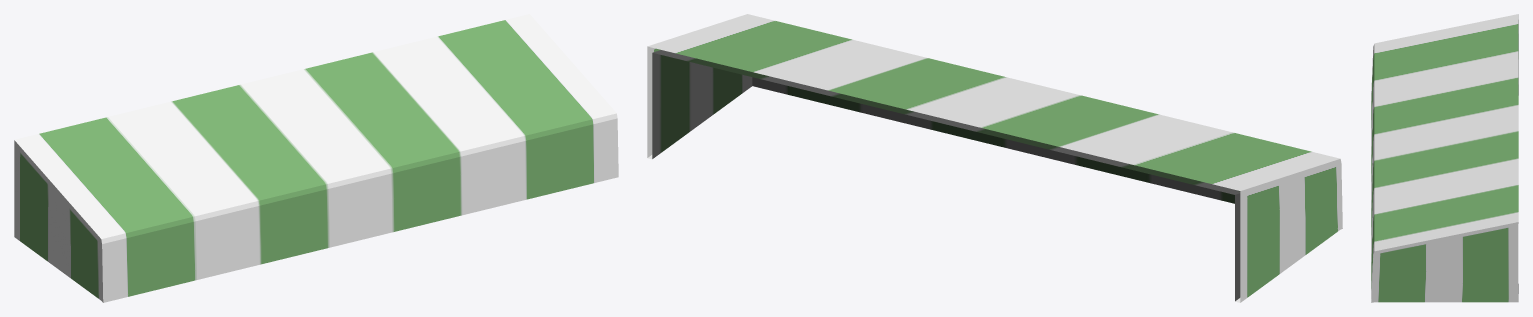
The model's file is ShopCanopy.fbx.
3 renders of one model, left to right at view 1: azimuth 30°, elevation 25°; view 2: azimuth 150°, elevation 25°; view 3: azimuth 270°, elevation 25°, orthographic. The views are drawn at different scales.
Parts seen in each view (by area): view 1: Cube.002; view 2: Cube.002; view 3: Cube.002.
Part boxes in pixels (x1,y1,x2,y2): Cube.002: (14, 14, 618, 302); Cube.002: (647, 14, 1342, 302); Cube.002: (1371, 14, 1518, 302).
Bounding box in the file's own units: 386 × 70.13 × 116.
